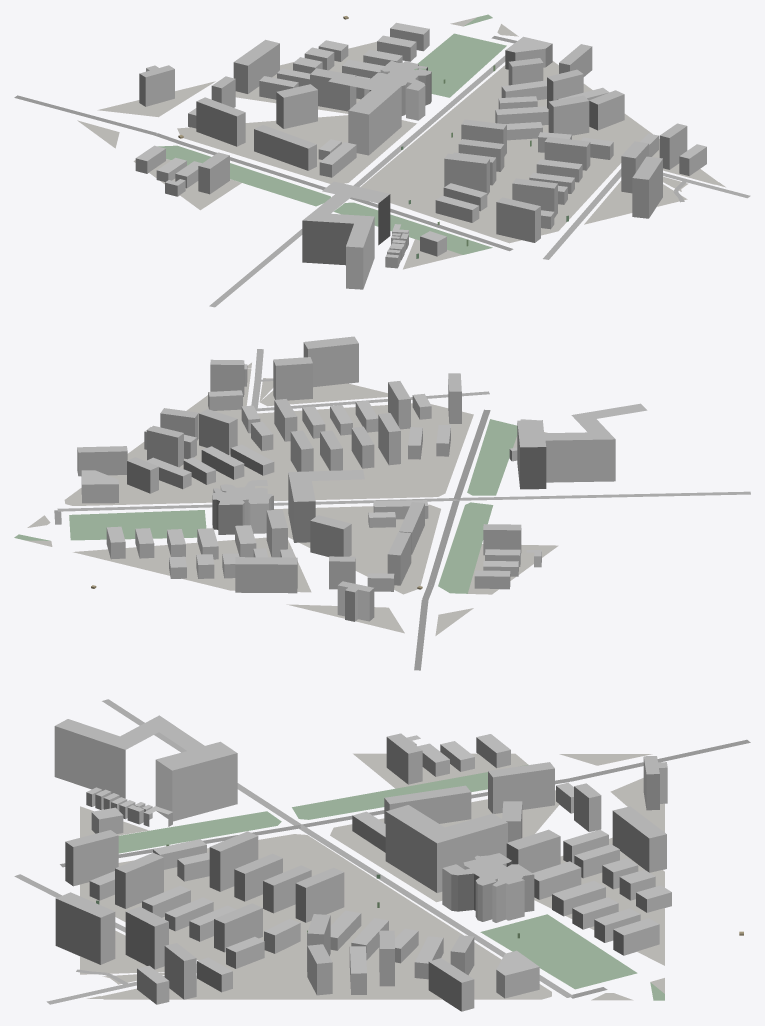
The picture shows the model from 3 angles, top to bottom: view 1: azimuth 30°, elevation 25°; view 2: azimuth 150°, elevation 25°; view 3: azimuth 270°, elevation 25°; orthographic projection. The views are drawn at different scales.
Bounding box in the file's own units: 634 × 49.13 × 630.
